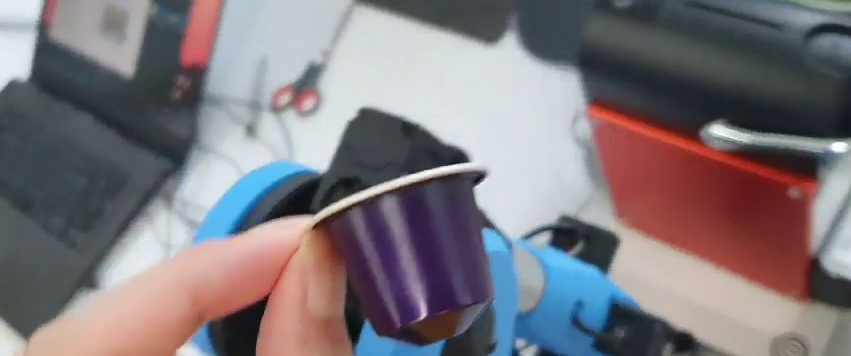capsule_2: (306, 157, 498, 347)
